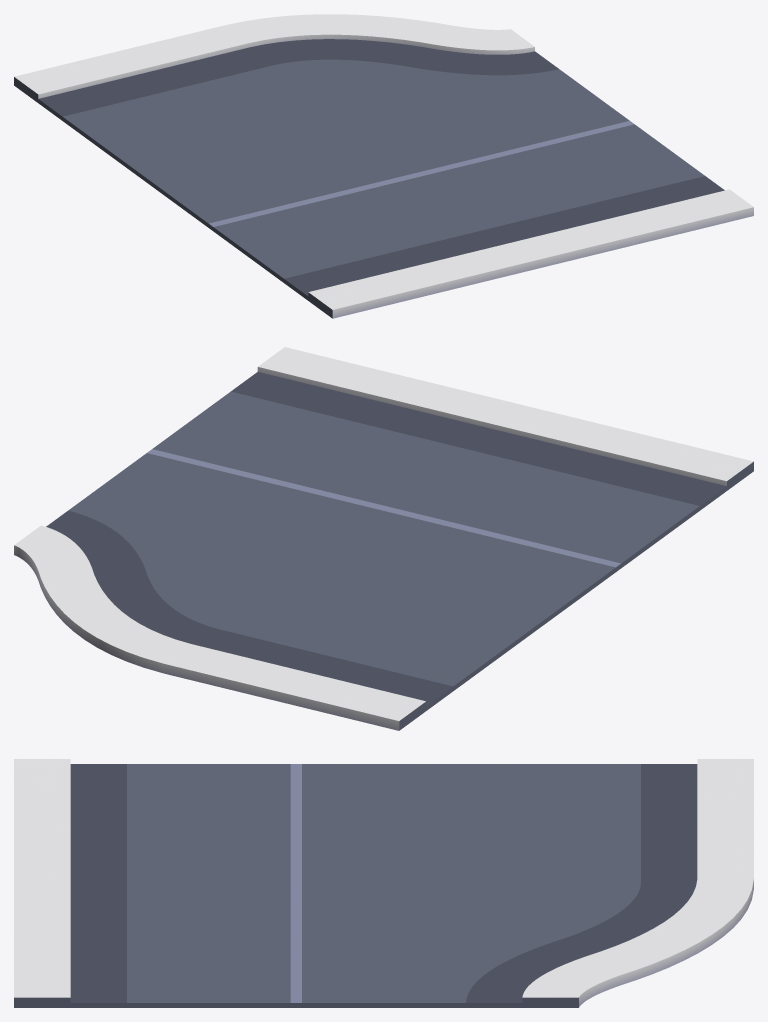
File: road-side-entry.glb
3 renders of one model, top to bottom at view 1: azimuth 30°, elevation 25°; view 2: azimuth 150°, elevation 25°; view 3: azimuth 270°, elevation 25°, orthographic. The views are drawn at different scales.
Visible parts, largest first — view 1: road-side-entry; view 2: road-side-entry; view 3: road-side-entry.
Boxes of the visible parts, box(x1,y1,x2,y2) form: road-side-entry: box(14, 14, 753, 318); road-side-entry: box(14, 347, 753, 730); road-side-entry: box(14, 759, 753, 1007).
Size of the model in its own units: 1 by 0.02 by 1.31.
Materials: 1 (1 with a texture image).
